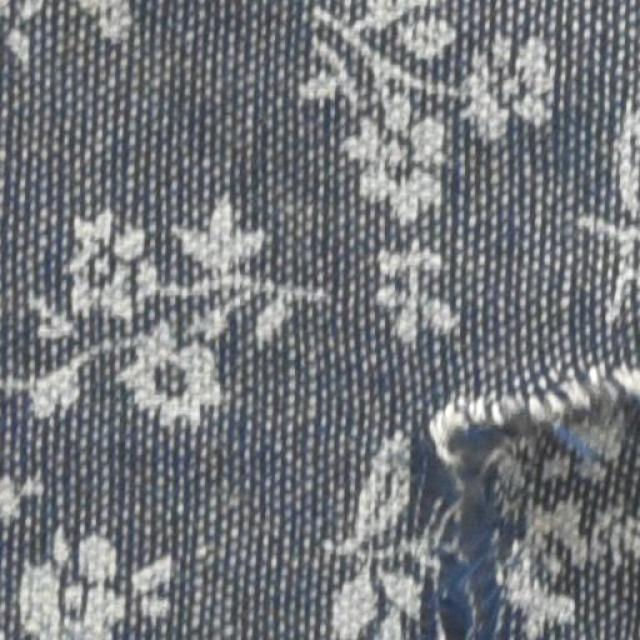Snag: (404, 367, 638, 639)
